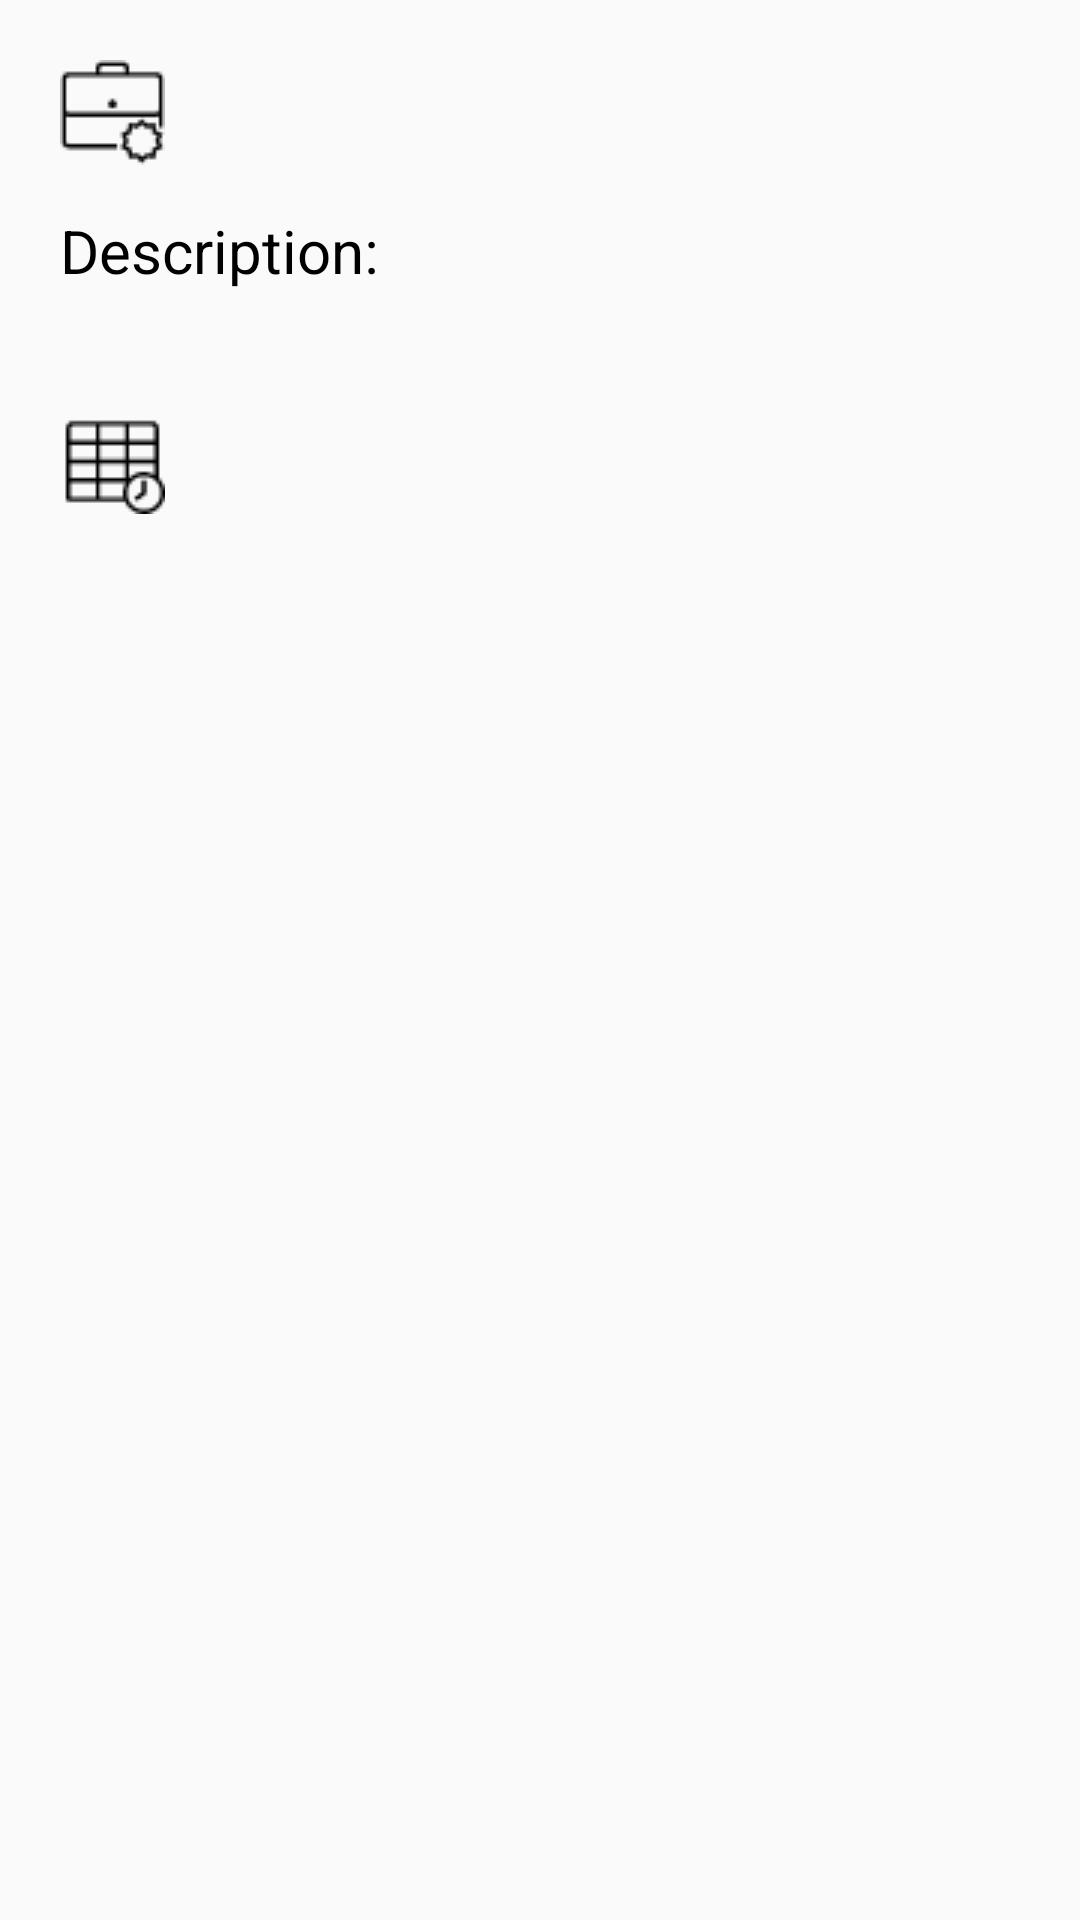

Where icons sit on this 1080×1920 app screen, as (x1=x1, y1=y1, x2=x2, y2=y2):
job detail: (x1=60, y1=60, x2=165, y2=165)
job detail schedule: (x1=65, y1=420, x2=165, y2=514)
